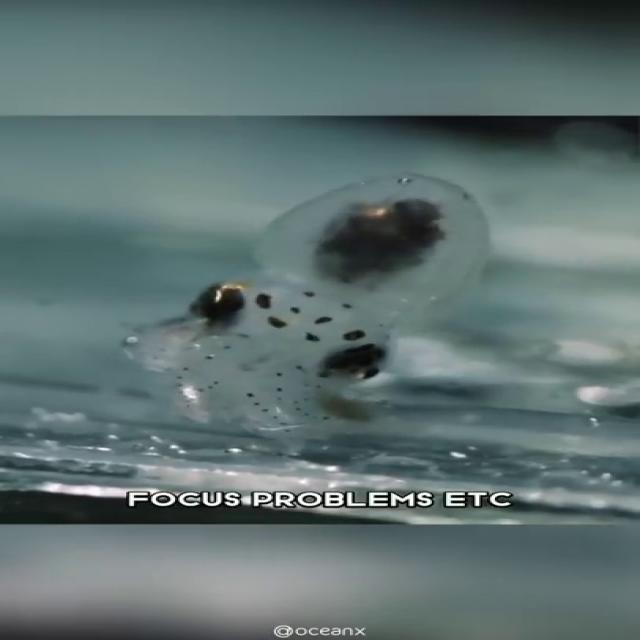octopus: (111, 168, 518, 448)
